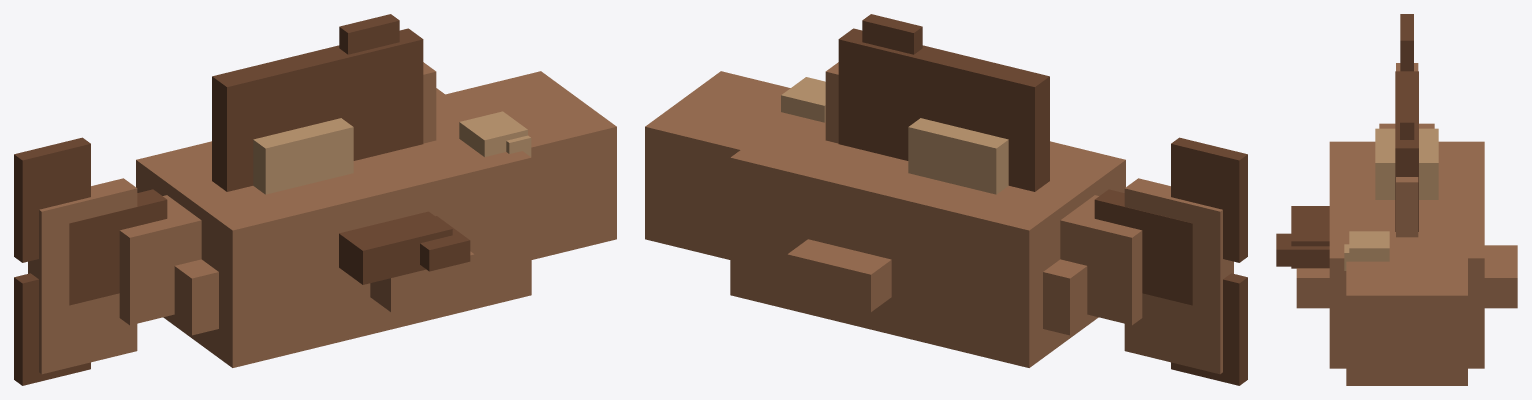
Rendered from fish_slag_perch.glb.
The picture shows the model from 3 angles, left to right: view 1: azimuth 30°, elevation 25°; view 2: azimuth 150°, elevation 25°; view 3: azimuth 270°, elevation 25°; orthographic projection. The views are drawn at different scales.
Visible parts, largest first — view 1: FishArt_body, FishArt_dorsal, FishArt_tail, FishArt_pectoral, FishArt_specialty, FishArt_eye; view 2: FishArt_body, FishArt_dorsal, FishArt_tail, FishArt_specialty, FishArt_eye; view 3: FishArt_body, FishArt_pectoral, FishArt_specialty, FishArt_dorsal, FishArt_eye, FishArt_tail.
Part boxes in pixels (box(x1,y1,x2,y2)): FishArt_body: box(28, 62, 616, 374); FishArt_dorsal: box(212, 14, 423, 191); FishArt_tail: box(14, 137, 167, 385); FishArt_pectoral: box(339, 211, 470, 284); FishArt_specialty: box(253, 118, 353, 194); FishArt_eye: box(459, 111, 531, 156); FishArt_body: box(645, 62, 1233, 374); FishArt_dorsal: box(838, 14, 1049, 191); FishArt_tail: box(1094, 137, 1247, 385); FishArt_specialty: box(908, 118, 1008, 194); FishArt_eye: box(781, 77, 825, 122); FishArt_body: box(1296, 63, 1517, 385); FishArt_pectoral: box(1276, 206, 1329, 268); FishArt_specialty: box(1375, 128, 1438, 199); FishArt_dorsal: box(1395, 71, 1418, 231); FishArt_eye: box(1344, 231, 1389, 270); FishArt_tail: box(1400, 14, 1413, 71).
Bounding box in the file's own units: 0.3091 × 0.1442 × 0.1439.
